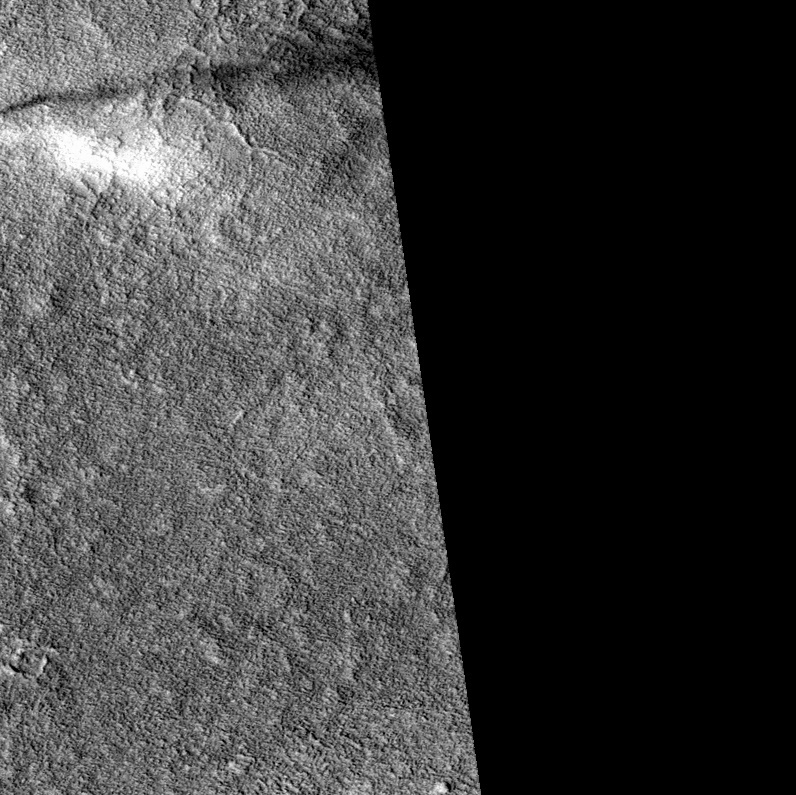dust_devil: (1, 23, 382, 204)
